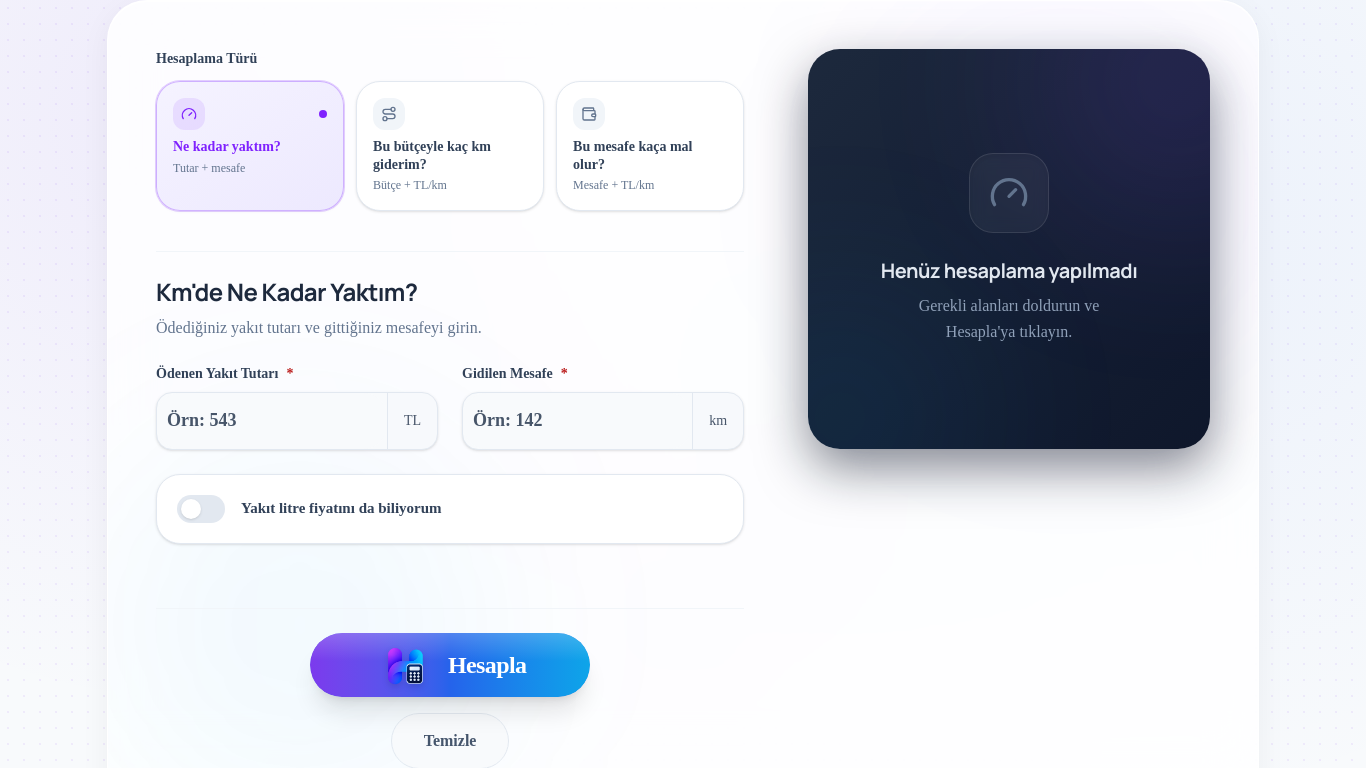
Scenario: Yakıt tüketimi form › reports action failures and releases the loading state
The image size is (1366, 768).
Click the button "Hesapla".
click(450, 664)  # box [310,632,590,696]
(page scrolled)
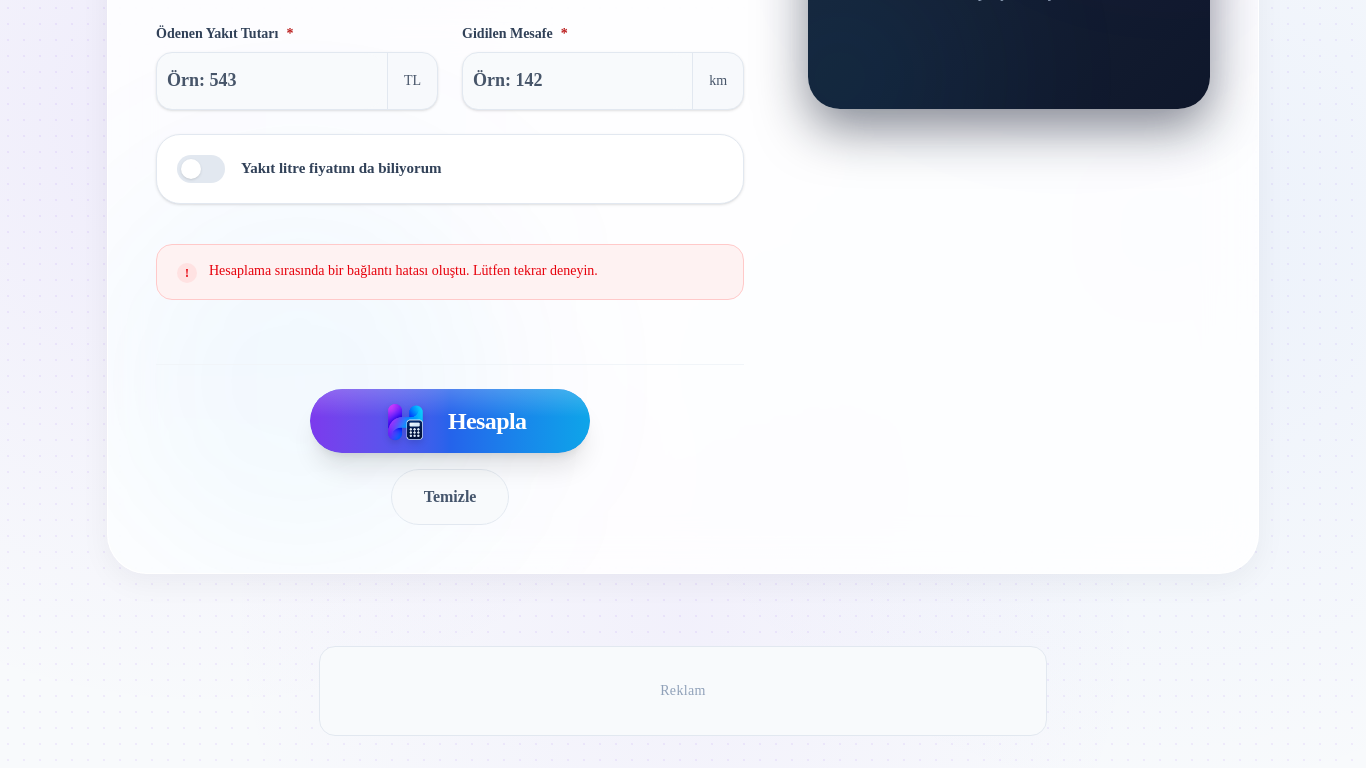
Expected: the button "Hesapla" is enabled, [310,388,590,452]
Result: the message shows "bağlantı hatası" at [209,262,598,278]
